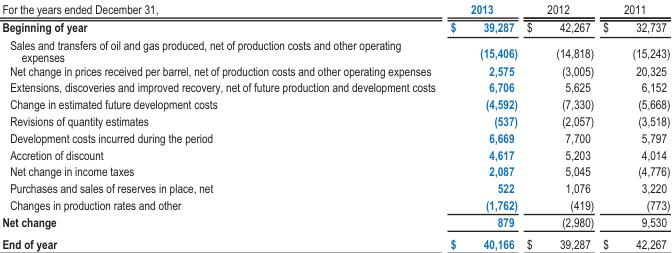table: (1, 1, 669, 250)
table column: (1, 1, 442, 250), (442, 1, 521, 250), (521, 1, 597, 250), (597, 1, 669, 250)
table column header: (1, 1, 669, 17)
table row: (1, 35, 669, 63), (1, 212, 669, 232), (1, 17, 669, 35), (1, 232, 669, 250), (1, 78, 669, 95), (1, 95, 669, 112), (1, 128, 669, 145), (1, 145, 669, 162), (1, 162, 669, 179), (1, 179, 669, 196), (1, 1, 669, 17), (1, 112, 669, 128), (1, 196, 669, 212), (1, 63, 669, 78)
